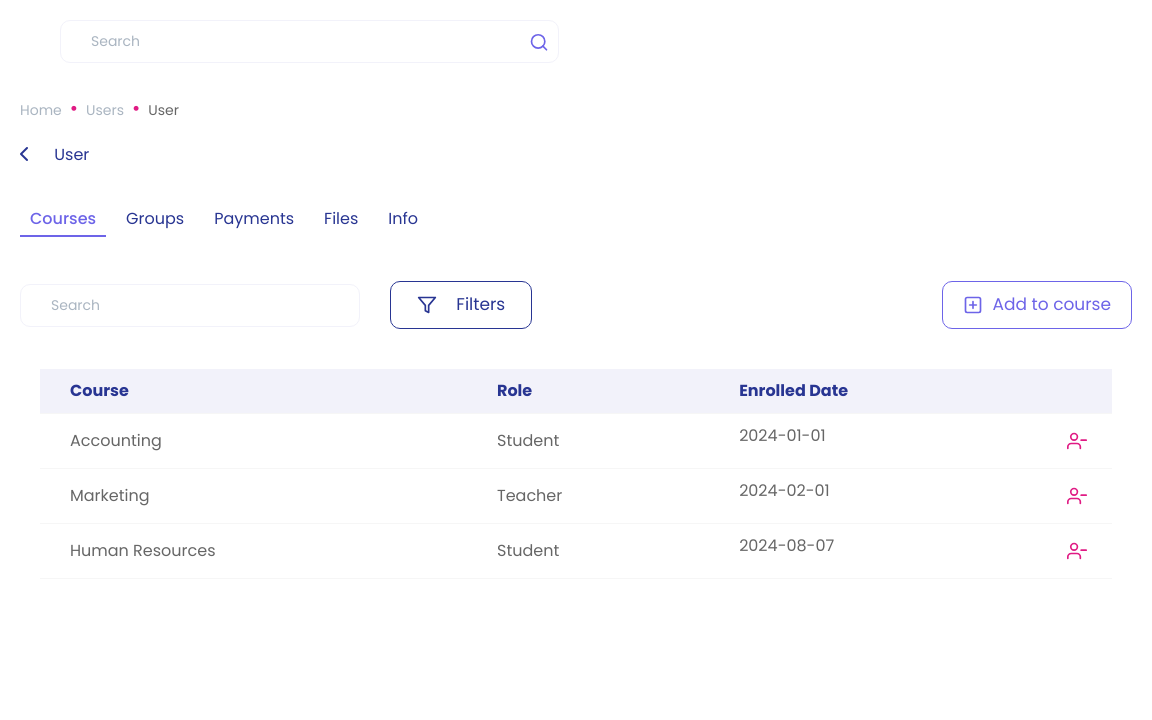
UserProfile component › toggles filter visibility on Courses page
This screenshot has width=1152, height=720.
What coordinates should you click on to do the following:
click the button "Filters"
I would click on:
 (461, 305)
Its box is [390,281,532,328].
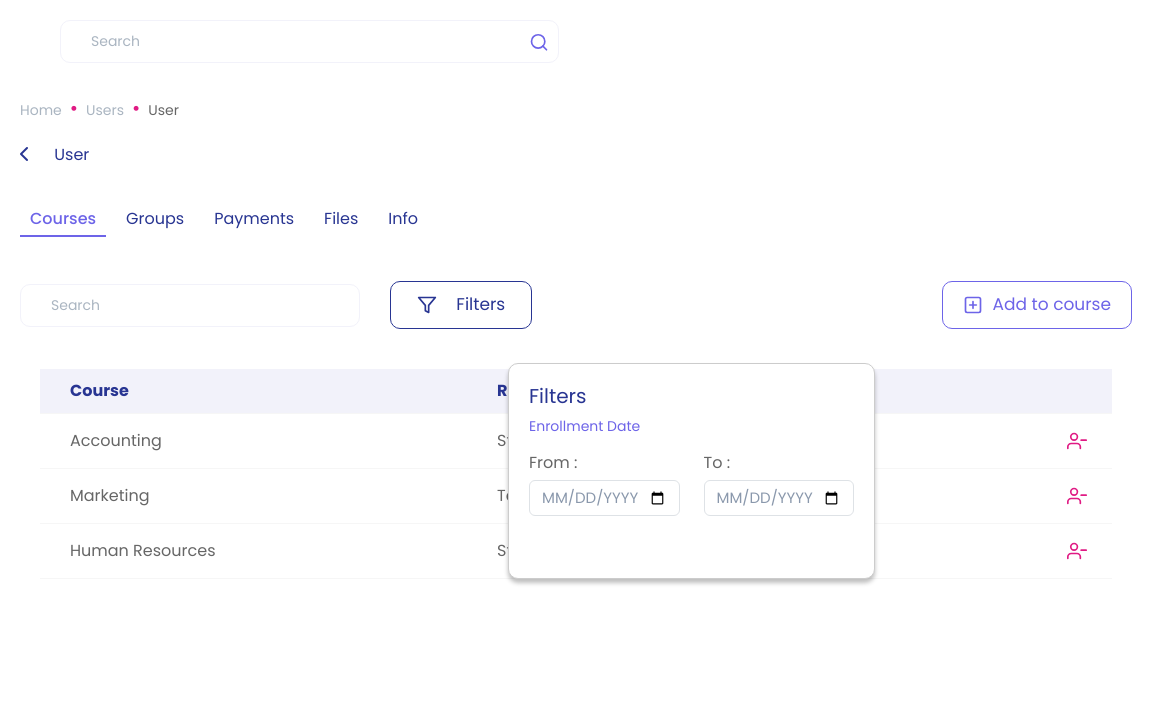
Expected: the heading "Filters" is shown, [529,382,586,410]
